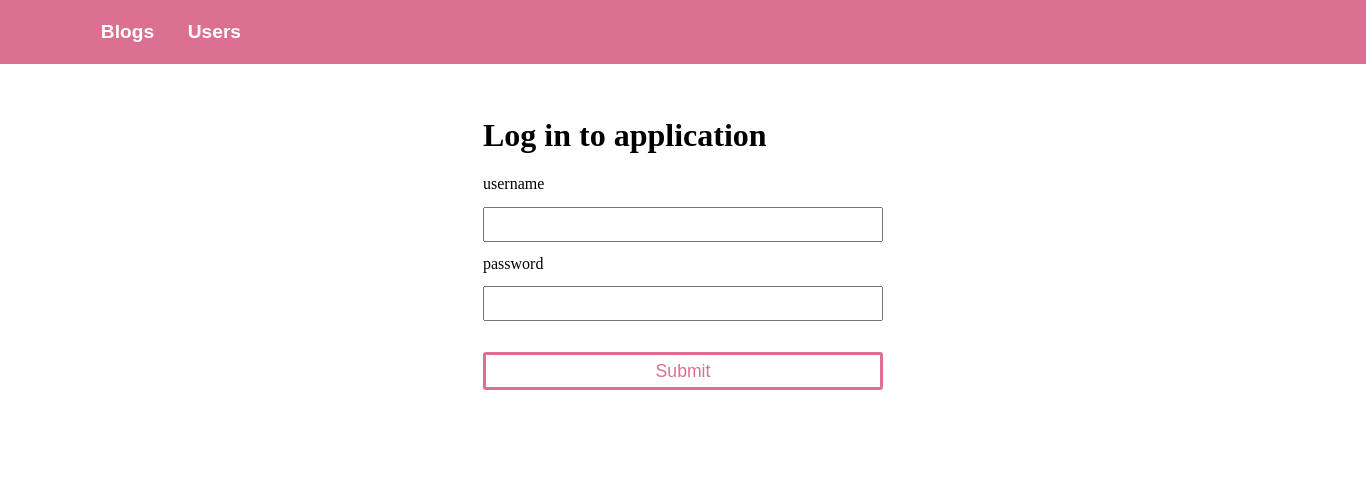
Scenario: bloglist app › login form › should fail when username or password are wrong
In the field with id "username": [683, 225] box [483,207,883,242], type "zombie"
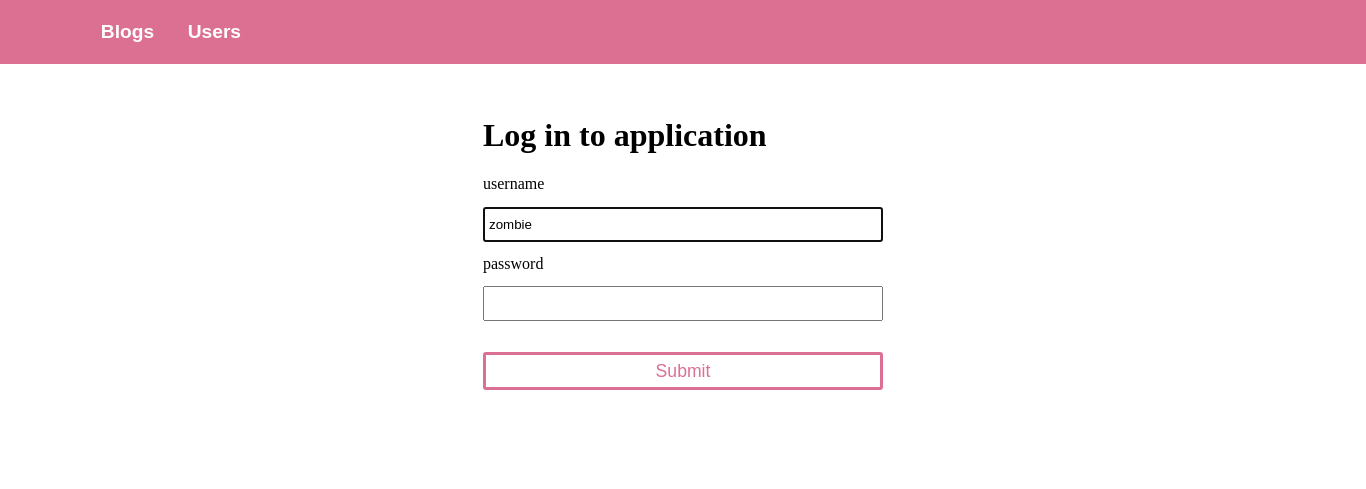
In the password field: [683, 305] box [483,287,883,322], type "eat-th-living"
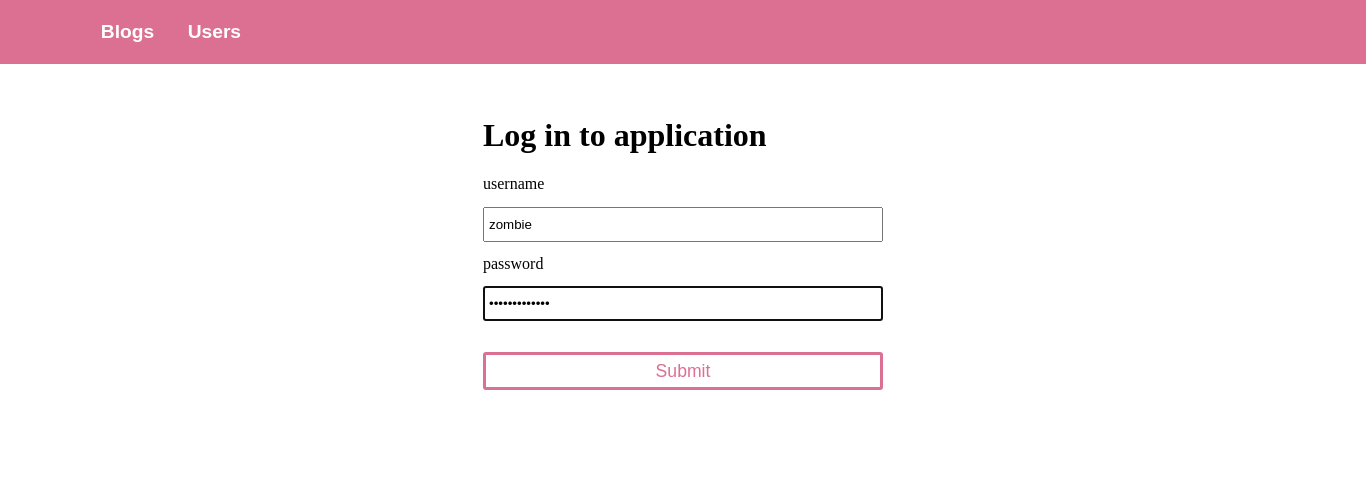
Click the button with id "login-button": [683, 371] box [483,352,883,390]
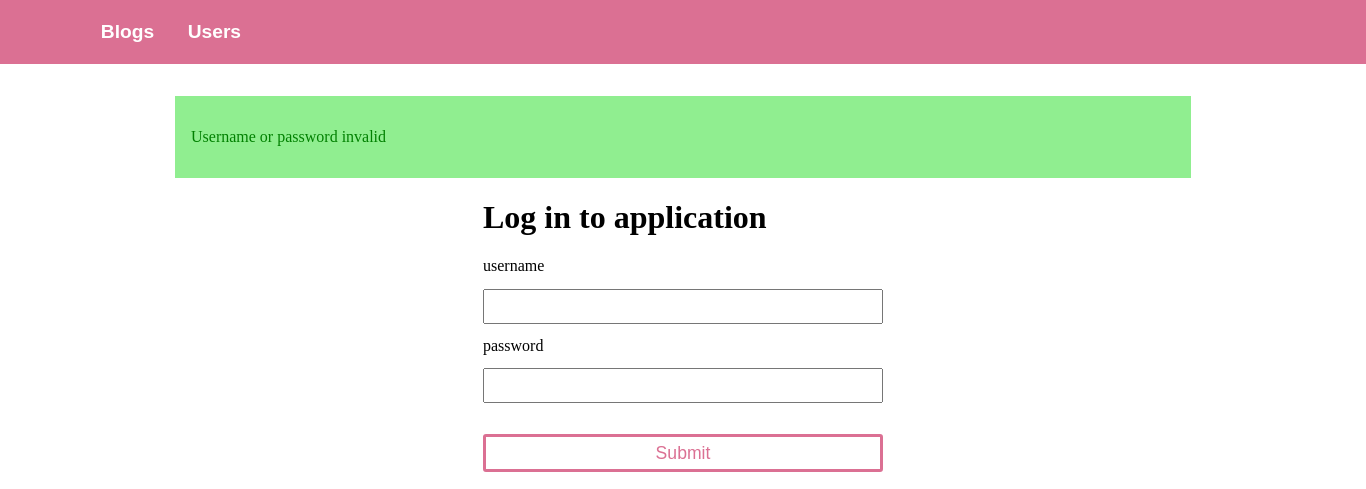
Now the text "Username or password invalid" is shown, box [191,128,386,145]
